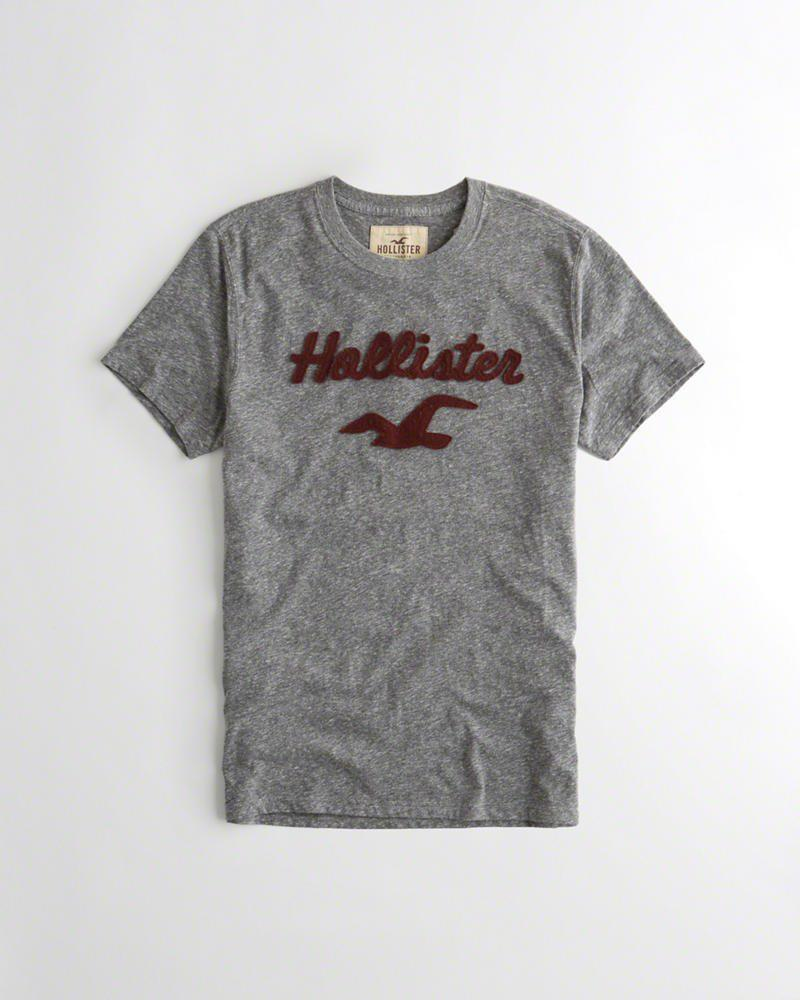teeshirt: (77, 146, 729, 856)
